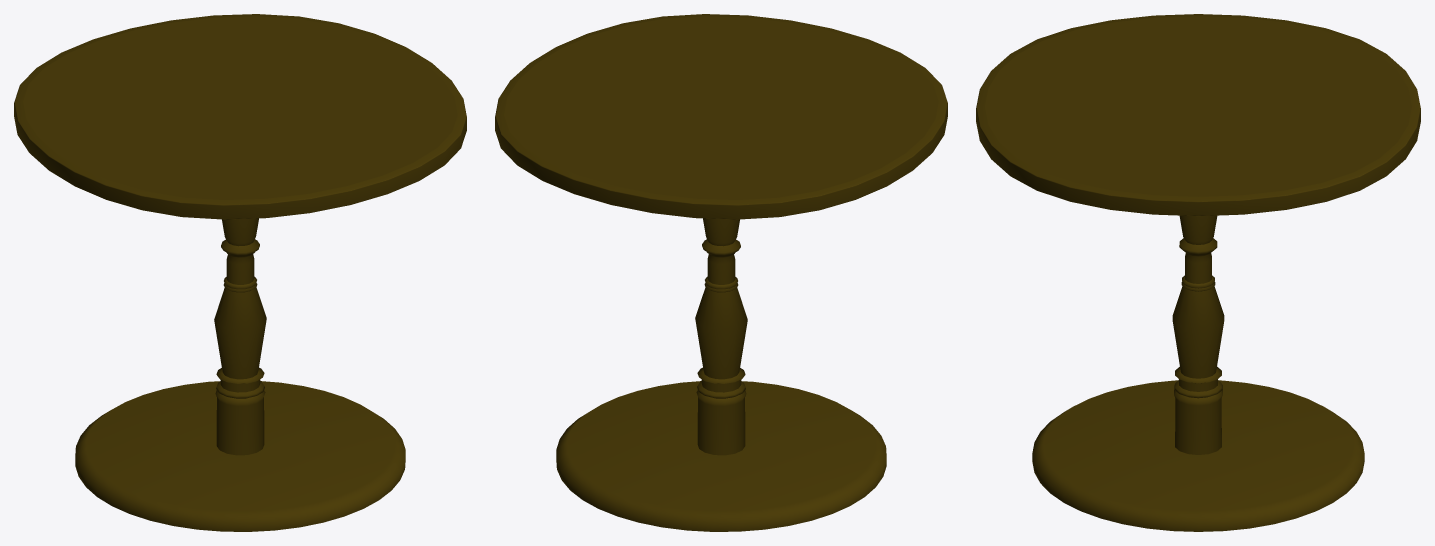
The model's file is SM_CafeTable.fbx.
3 views of the same model, side by side, from view 1: azimuth 30°, elevation 25°; view 2: azimuth 150°, elevation 25°; view 3: azimuth 270°, elevation 25° (orthographic).
Visible parts, largest first — view 1: GEO_CafeTable; view 2: GEO_CafeTable; view 3: GEO_CafeTable.
Part boxes in pixels (x1,y1,x2,y2): GEO_CafeTable: (14, 14, 466, 531); GEO_CafeTable: (495, 14, 947, 531); GEO_CafeTable: (976, 14, 1420, 531).
Size of the model in its own units: 87.6 by 77.18 by 87.6.
